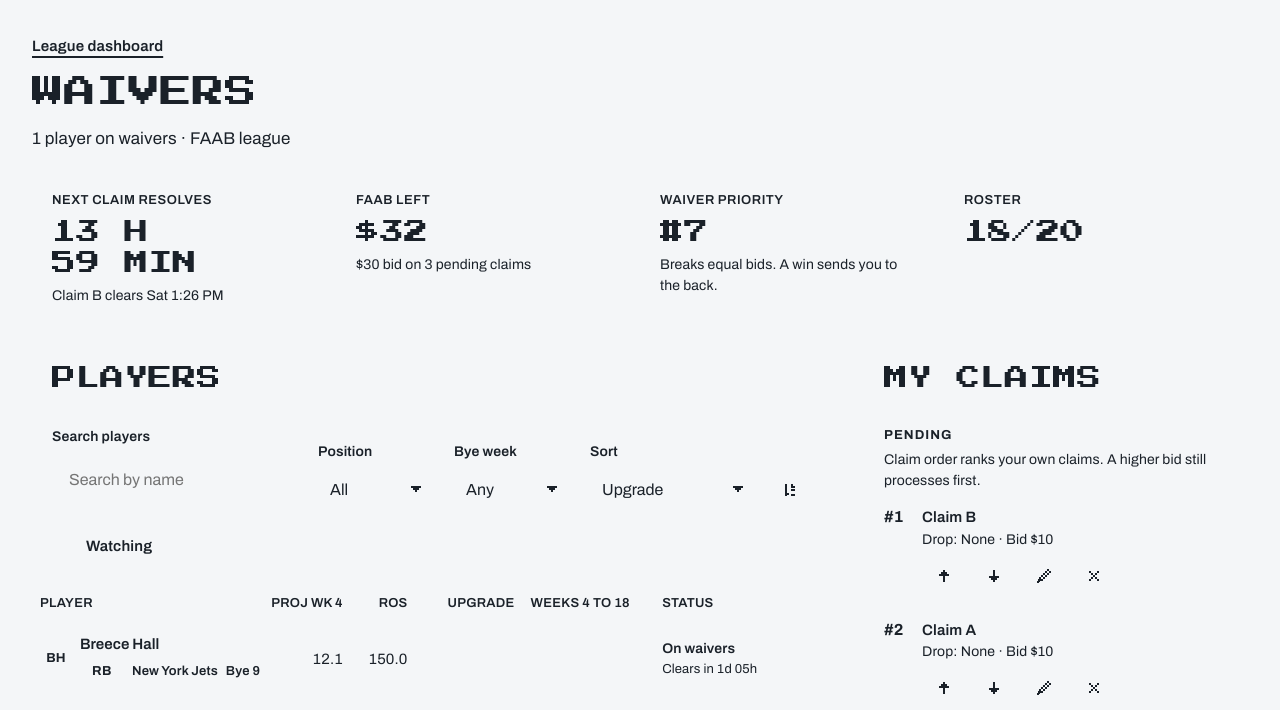
Test case: a refused reorder reverts the list and shows the refusal
This screenshot has width=1280, height=710.
Expected: the text "Claim A" is shown, [922,622,976,638]
Click the button named "Move Claim B down" at (994, 576), box [972,554,1016,598]
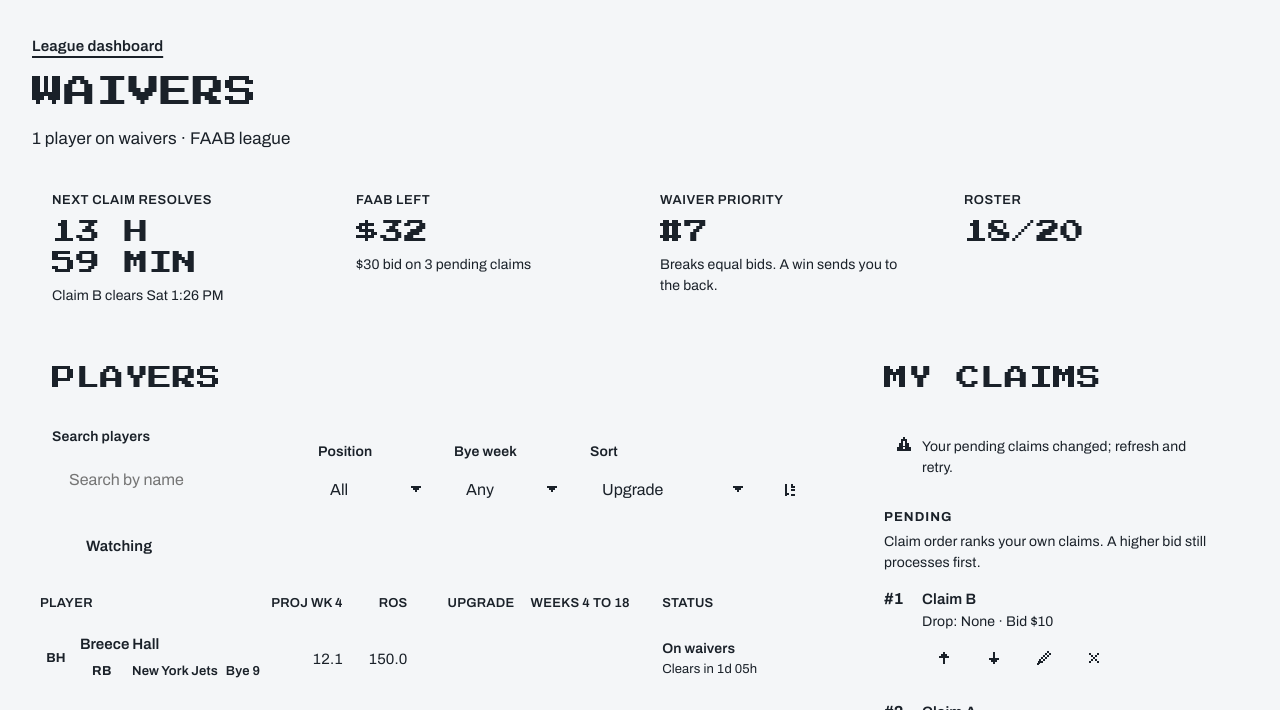
Now the text "Your pending claims changed; refresh and retry." is shown, box [922,436,1216,478]
